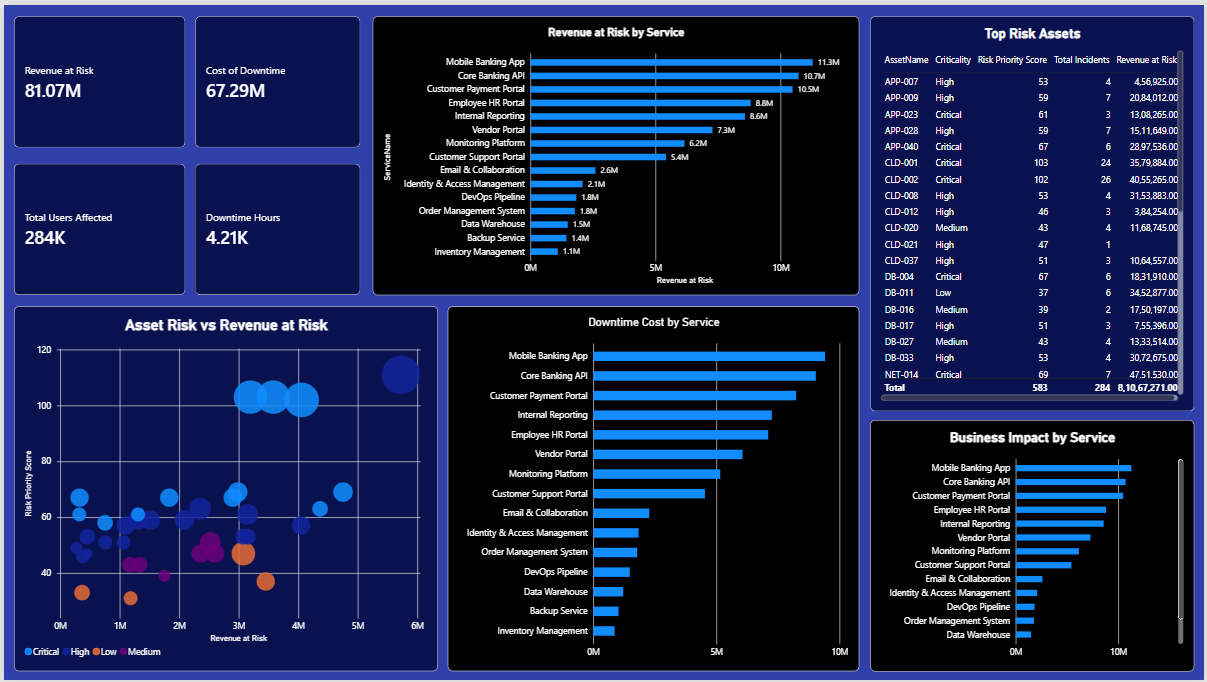

What the dashboard file says about the page in this screenshot:
{"tool":"powerbi","page":{"name":"Business Impact & Risk","canvas":[1920,1080],"ordinal":4},"visuals":[{"type":"cardVisual","fields":{"Data":["it_infrastructure_health business_impact.Total Users Affected"]},"box":[16,254,274.4,210],"z":0},{"type":"cardVisual","fields":{"Data":["it_infrastructure_health business_impact.Downtime Hours"]},"box":[306,254,264,210],"z":1000},{"type":"cardVisual","fields":{"Data":["it_infrastructure_health business_impact.Cost of Downtime"]},"box":[306,18,264,210],"z":2000},{"type":"cardVisual","fields":{"Data":["it_infrastructure_health business_impact.Revenue at Risk"]},"box":[16,18,274,210],"z":3000},{"type":"clusteredBarChart","title":"Revenue at Risk by Service","fields":{"Category":["it_infrastructure_health it_services.ServiceName"],"Y":["it_infrastructure_health business_impact.Revenue at Risk"]},"box":[590,18,778,446],"z":5000},{"type":"clusteredBarChart","title":"Downtime Cost by Service    ","fields":{"Category":["it_infrastructure_health it_services.ServiceName"],"Y":["it_infrastructure_health business_impact.Cost of Downtime"]},"box":[710,482,658,584],"z":6000},{"type":"scatterChart","title":"Asset Risk vs Revenue at Risk","fields":{"X":["it_infrastructure_health business_impact.Revenue at Risk"],"Y":["it_infrastructure_health infrastructure_assets.Risk Priority Score"],"Series":["it_infrastructure_health infrastructure_assets.Criticality"],"Size":["it_infrastructure_health incidents.Total Incidents"],"Category":["it_infrastructure_health infrastructure_assets.AssetName"]},"box":[16,482,678,584],"z":7000},{"type":"tableEx","title":"Top Risk Assets","fields":{"Values":["it_infrastructure_health infrastructure_assets.AssetName","it_infrastructure_health infrastructure_assets.Criticality","it_infrastructure_health infrastructure_assets.Risk Priority Score","it_infrastructure_health incidents.Total Incidents","it_infrastructure_health business_impact.Revenue at Risk"]},"box":[1386,18,518,632],"z":8000},{"type":"clusteredBarChart","title":" Business Impact by Service","fields":{"Category":["it_infrastructure_health it_services.ServiceName"],"Y":["it_infrastructure_health business_impact.Revenue at Risk"]},"box":[1386,664,518,402],"z":9000}]}

Visuals, with their boxes in screenshot pixels (x1, y1, x2, y2), scaled from the page's 1920x1080 canvas onto the 1207x682 screenshot:
cardVisual - it_infrastructure_health business_impact.Total Users Affected: x1=10 y1=160 x2=183 y2=293
cardVisual - it_infrastructure_health business_impact.Downtime Hours: x1=192 y1=160 x2=358 y2=293
cardVisual - it_infrastructure_health business_impact.Cost of Downtime: x1=192 y1=11 x2=358 y2=144
cardVisual - it_infrastructure_health business_impact.Revenue at Risk: x1=10 y1=11 x2=182 y2=144
"Revenue at Risk by Service" clusteredBarChart: x1=371 y1=11 x2=860 y2=293
"Downtime Cost by Service    " clusteredBarChart: x1=446 y1=304 x2=860 y2=673
"Asset Risk vs Revenue at Risk" scatterChart: x1=10 y1=304 x2=436 y2=673
"Top Risk Assets" tableEx: x1=871 y1=11 x2=1197 y2=410
" Business Impact by Service" clusteredBarChart: x1=871 y1=419 x2=1197 y2=673
